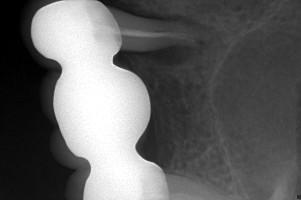Dental Caries: (104, 0, 227, 65)
